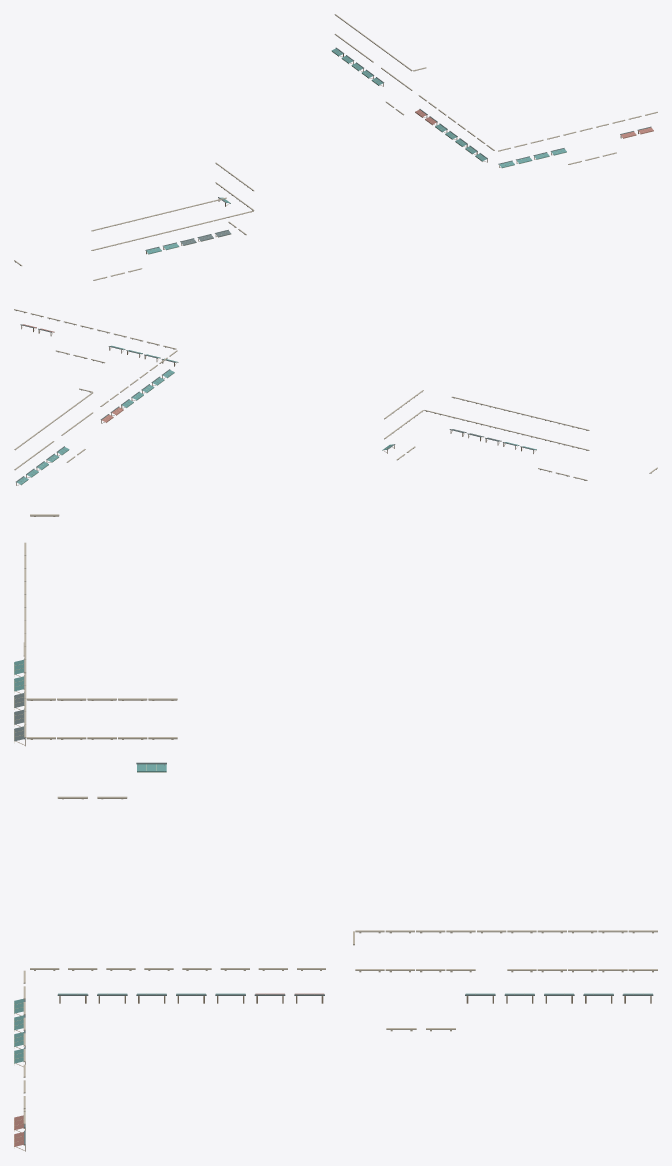
File: museum.glb
The picture shows the model from 3 angles, top to bottom: view 1: azimuth 30°, elevation 25°; view 2: azimuth 150°, elevation 25°; view 3: azimuth 270°, elevation 25°; orthographic projection. The views are drawn at different scales.
Parts seen in each view (by area): view 1: stone, canvas, enamel; view 2: stone, canvas, enamel, bronze; view 3: stone, canvas, enamel.
Boxes of the visible parts, left/top/right/bottom form: stone: left=14, top=14, right=657, bottom=280; canvas: left=146, top=48, right=566, bottom=254; enamel: left=145, top=47, right=651, bottom=250; stone: left=14, top=309, right=657, bottom=480; canvas: left=16, top=345, right=536, bottom=484; enamel: left=16, top=324, right=534, bottom=482; bronze: left=16, top=325, right=535, bottom=485; stone: left=23, top=514, right=657, bottom=1145; canvas: left=14, top=659, right=652, bottom=1063; enamel: left=14, top=658, right=653, bottom=1144.
Size of the model in its own units: 110 by 8.42 by 48.99.
